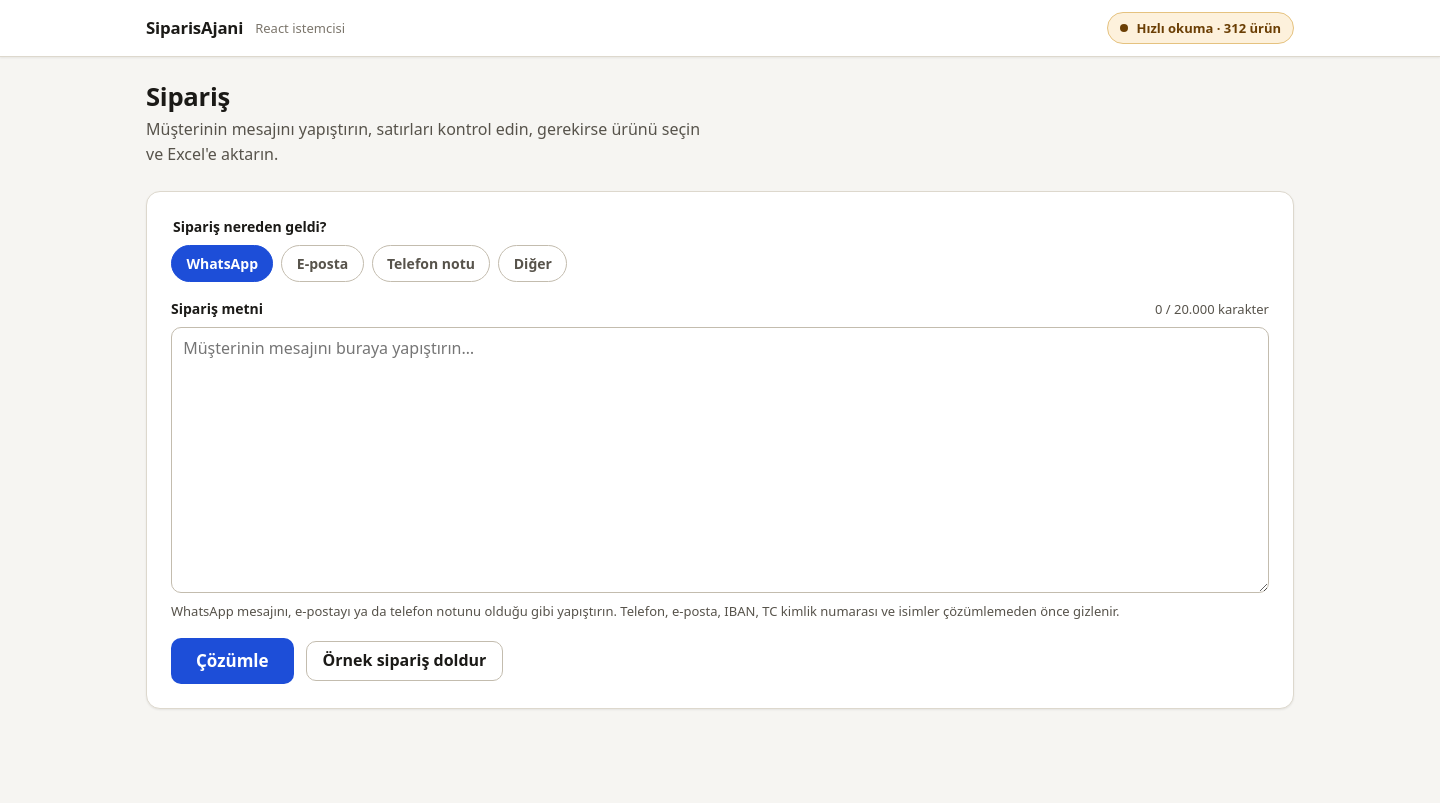
Scenario: her satırı kendi durum rozetiyle listeler
Step 1. Click the button "Örnek sipariş doldur" → (404, 661), box [306,641,503,681]
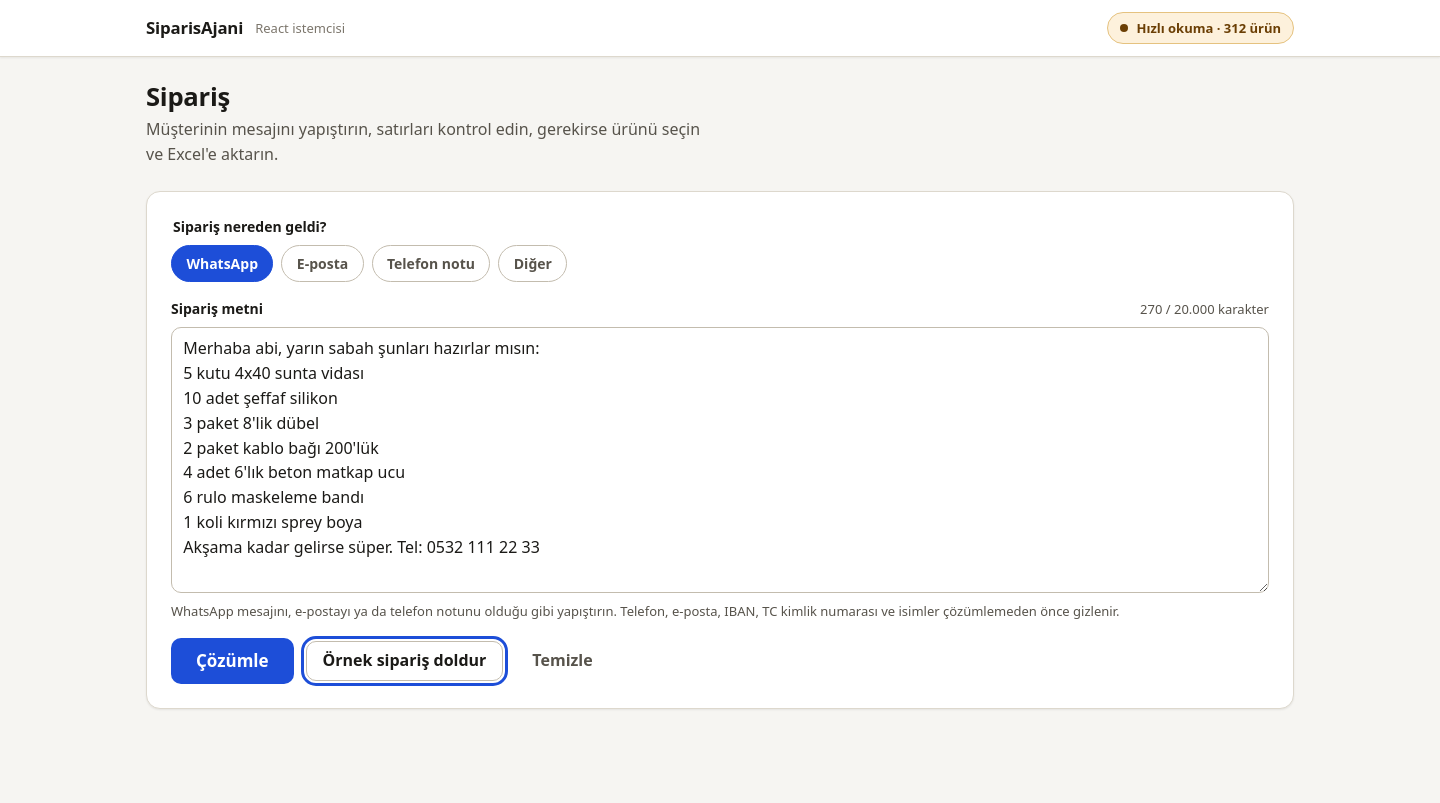
Step 2. Click the button "Çözümle" → (232, 661), box [171,638,294,684]
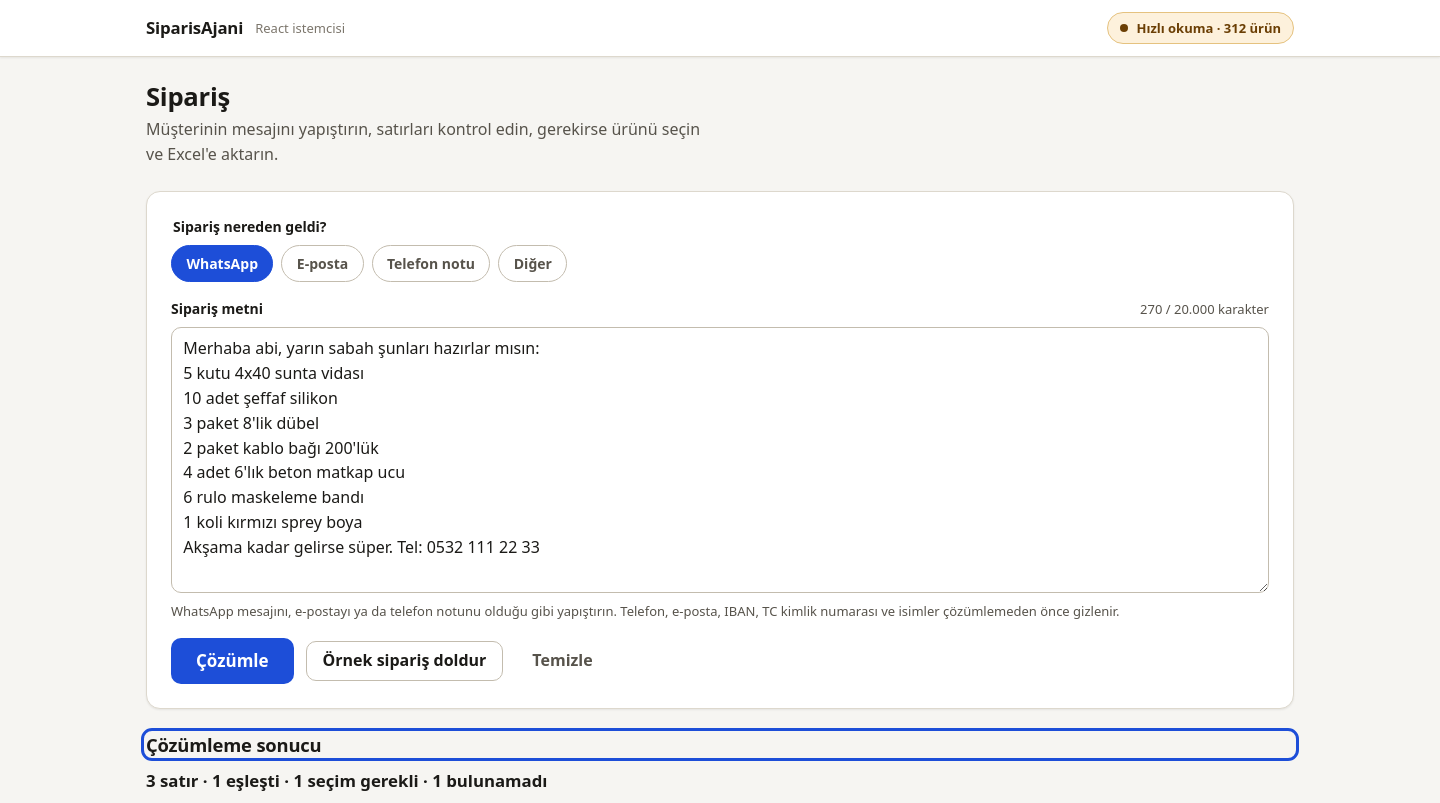
Now the text "3 satır · 1 eşleşti · 1 seçim gerekli · 1 bulunamadı" is shown, box [146,769,548,792]
